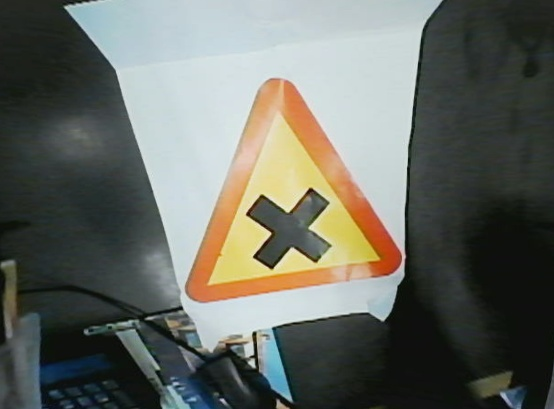junction: (152, 77, 409, 317)
